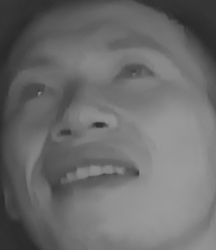eye: (111, 58, 159, 88), (14, 77, 55, 104)
mouth: (43, 148, 142, 205)
